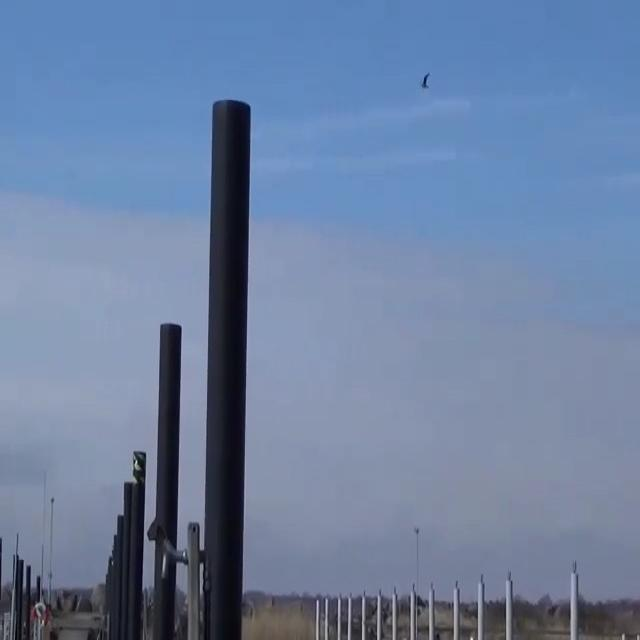bird: (414, 66, 436, 92)
